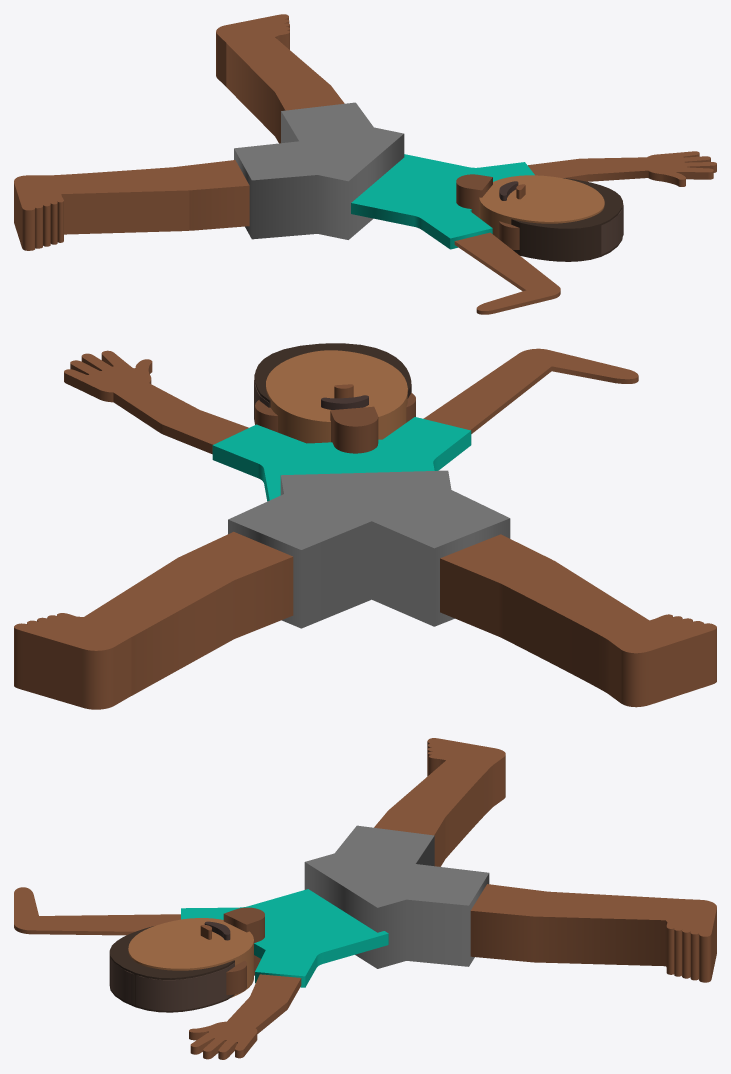
The model's file is emoji_u1f938_1f3fe_200d_2642.glb.
The picture shows the model from 3 angles, top to bottom: view 1: azimuth 30°, elevation 25°; view 2: azimuth 150°, elevation 25°; view 3: azimuth 270°, elevation 25°; orthographic projection. The views are drawn at different scales.
Visible parts, largest first — view 1: emoji_u1f938_1f3fe_200d_2642; view 2: emoji_u1f938_1f3fe_200d_2642; view 3: emoji_u1f938_1f3fe_200d_2642.
Part boxes in pixels (x1,y1,x2,y2): emoji_u1f938_1f3fe_200d_2642: (14, 14, 716, 314); emoji_u1f938_1f3fe_200d_2642: (14, 343, 716, 709); emoji_u1f938_1f3fe_200d_2642: (14, 738, 716, 1059).
Size of the model in its own units: 0.0333 by 0.0032 by 0.0333.
